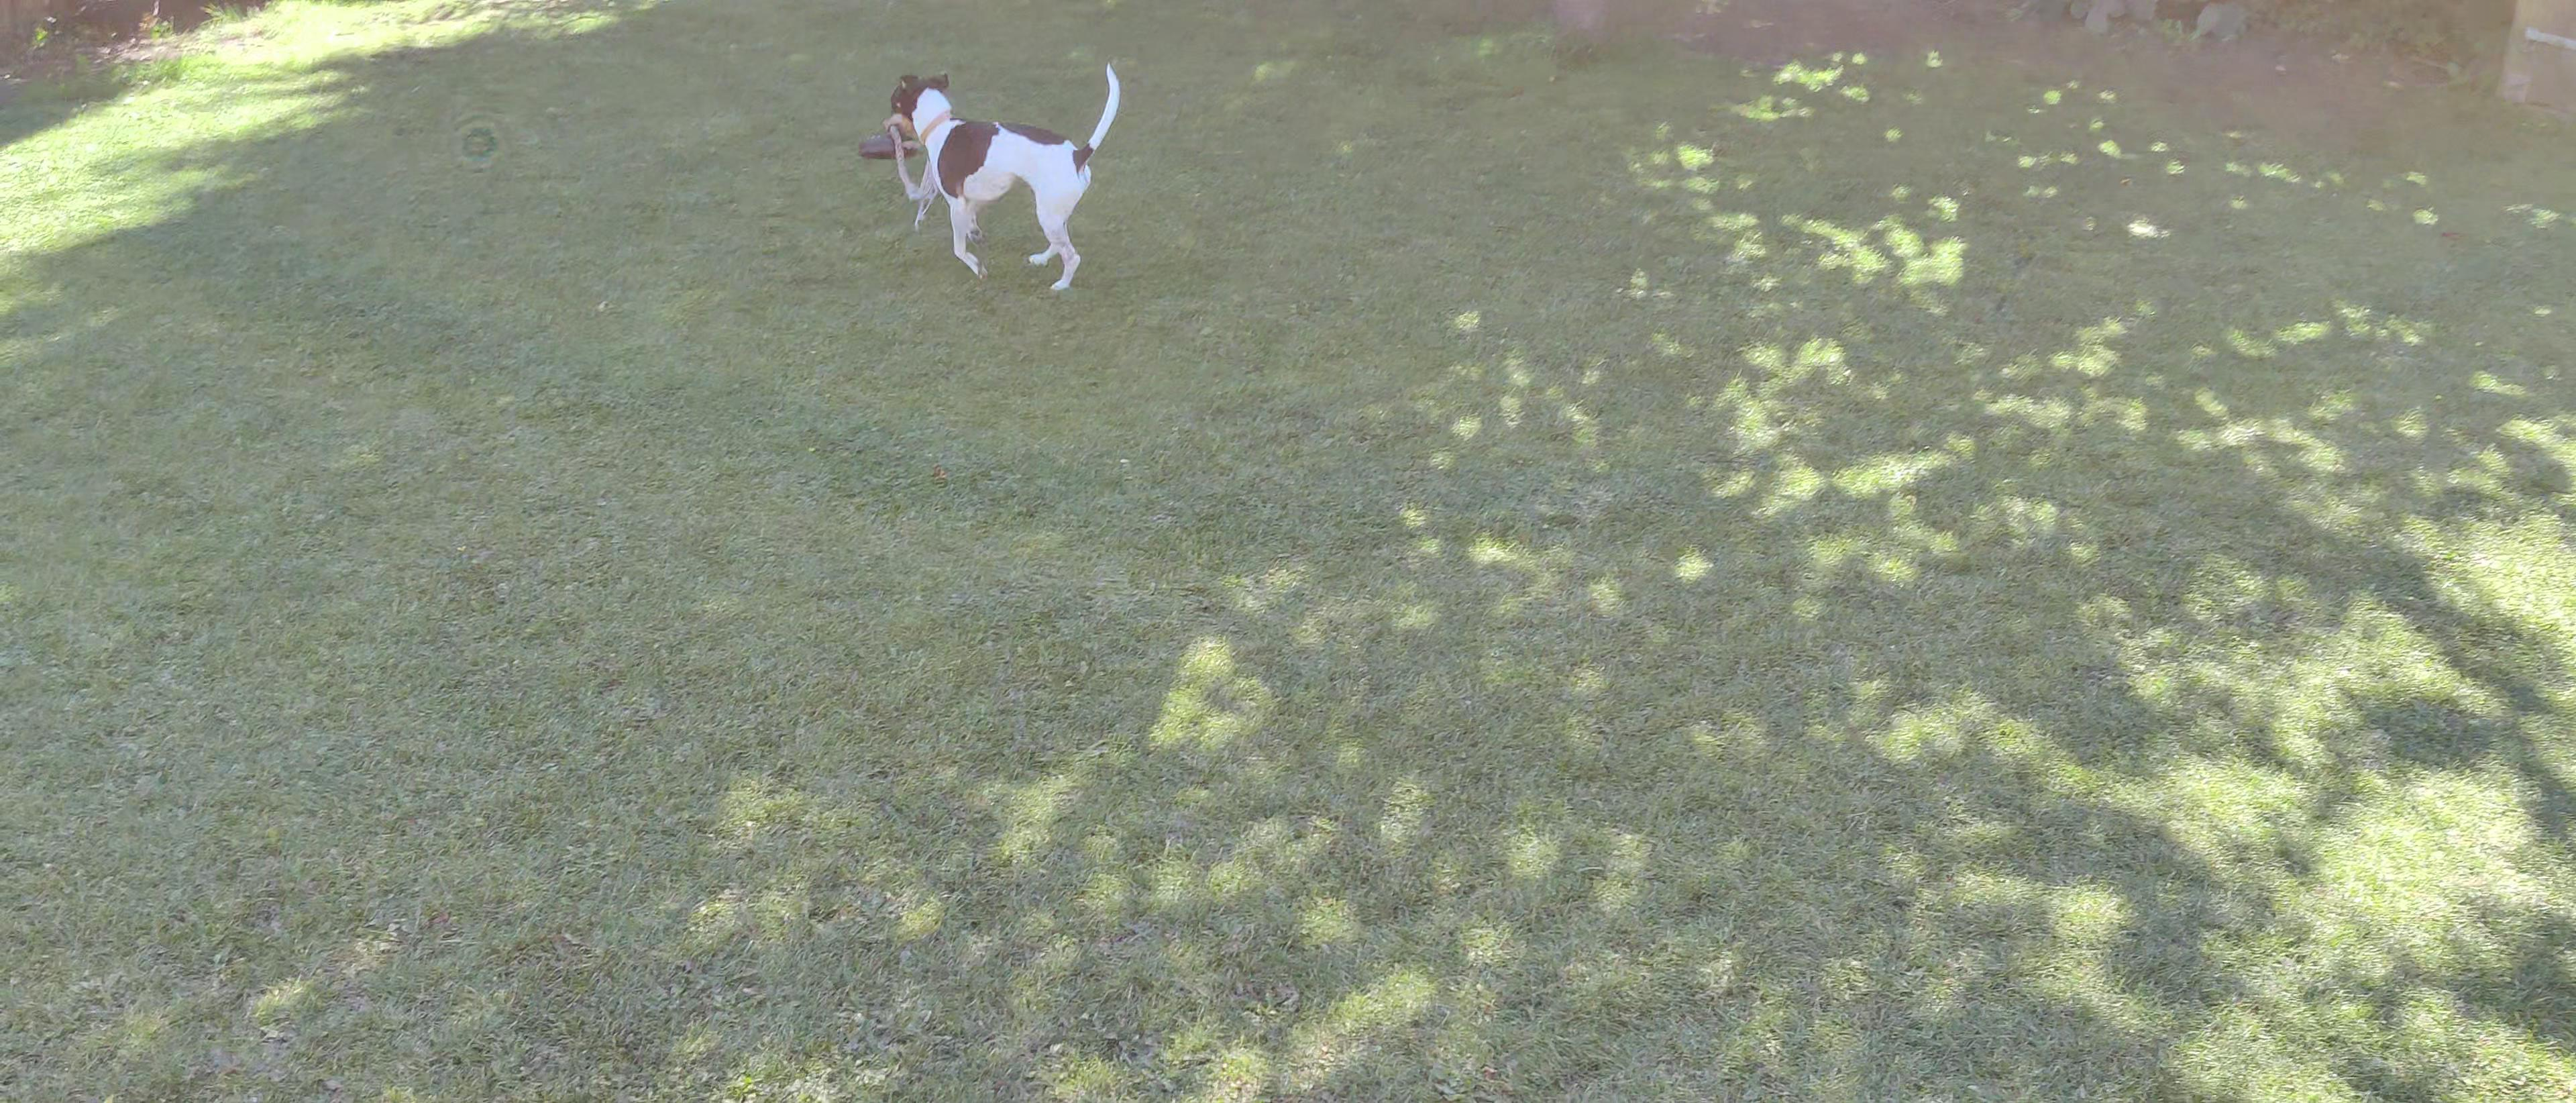Dog: (877, 59, 1124, 291)
